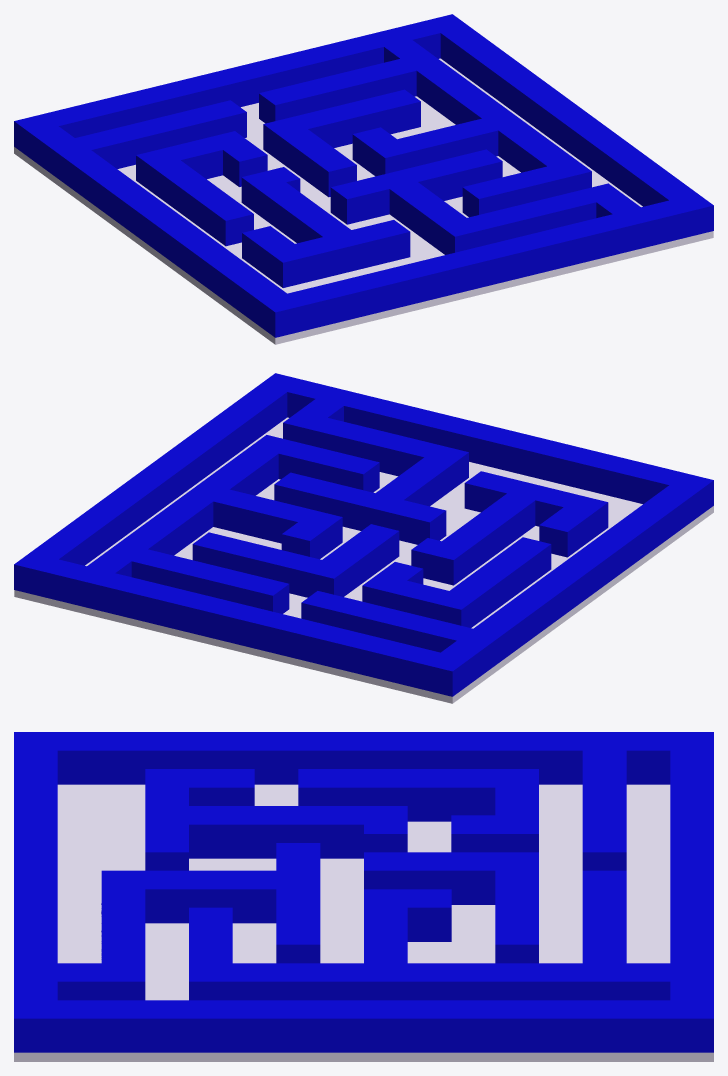
File: Maze (1).fbx
3 renders of one model, top to bottom at view 1: azimuth 30°, elevation 25°; view 2: azimuth 150°, elevation 25°; view 3: azimuth 270°, elevation 25°, orthographic. The views are drawn at different scales.
Visible parts, largest first — view 1: Plane; view 2: Plane; view 3: Plane.
Boxes of the visible parts, bbox=[...] form: Plane: bbox=[14, 14, 713, 344]; Plane: bbox=[14, 373, 713, 703]; Plane: bbox=[14, 732, 713, 1061].
Size of the model in its own units: 194 by 13.66 by 200.
